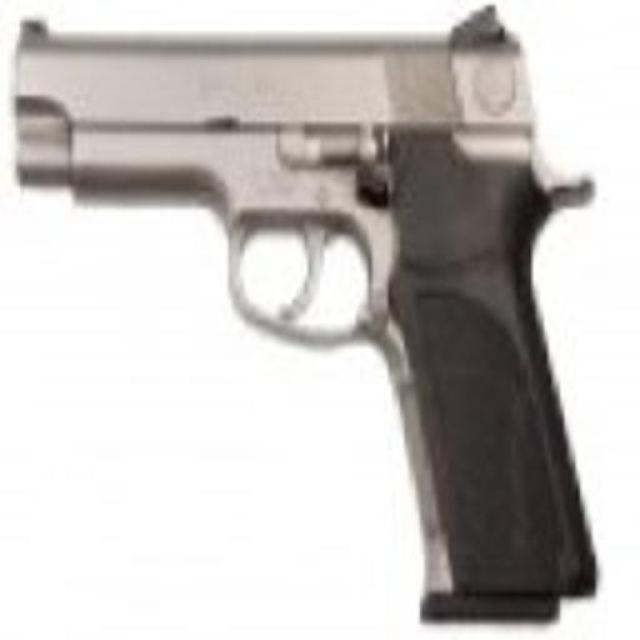pistol: (15, 15, 604, 634)
